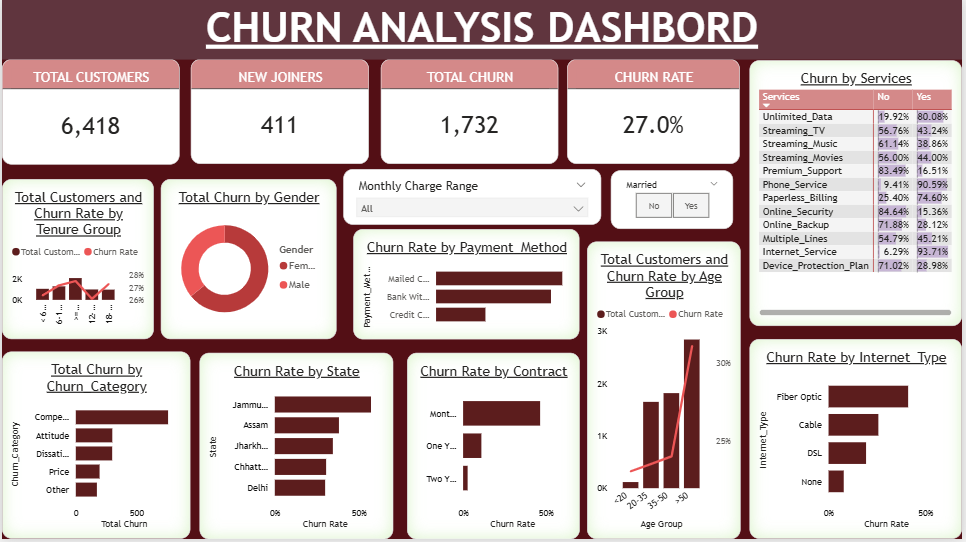

The dashboard page shown, as its layout file describes it:
{"tool":"powerbi","page":{"name":"Churn Analysis Dashboard","canvas":[1280,720],"ordinal":0},"visuals":[{"type":"card","title":"TOTAL CUSTOMERS","fields":{"Values":["Tbl_Measure.Total Customers"]},"box":[0,79.6,236.5,141.2],"z":0},{"type":"card","title":"TOTAL CHURN","fields":{"Values":["Tbl_Measure.Total Churn"]},"box":[504.3,80.8,236.5,139.9],"z":1000},{"type":"card","title":"NEW JOINERS","fields":{"Values":["Tbl_Measure.New Joiners"]},"box":[250.9,80.8,237.7,139.9],"z":2000},{"type":"card","title":"CHURN RATE","fields":{"Values":["Tbl_Measure.Churn Rate"]},"box":[754,79.6,230.4,139.9],"z":3000},{"type":"donutChart","fields":{"Category":["prod_Churn.Gender"],"Y":["Tbl_Measure.Total Churn"]},"box":[212.3,240.1,234,213.5],"z":4000},{"type":"lineStackedColumnComboChart","fields":{"Category":["Mapping_AgeGrp.Age Group"],"Y":["Tbl_Measure.Total Customers"],"Y2":["Tbl_Measure.Churn Rate"]},"box":[779.4,323.3,205.1,396.9],"z":5000},{"type":"clusteredBarChart","fields":{"Category":["prod_Churn.Payment_Method"],"Y":["Tbl_Measure.Churn Rate"]},"box":[468.1,306.4,301.6,147.2],"z":6000},{"type":"clusteredBarChart","fields":{"Category":["prod_Churn.Contract"],"Y":["Tbl_Measure.Churn Rate"]},"box":[539.3,471.7,230.4,248.5],"z":7000},{"type":"lineStackedColumnComboChart","fields":{"Category":["Mapping_TenureGrp.Tenure Group"],"Y":["Tbl_Measure.Total Customers"],"Y2":["Tbl_Measure.Churn Rate"]},"box":[0,240,203.3,213.3],"z":8000},{"type":"clusteredBarChart","fields":{"Category":["prod_Churn.State"],"Y":["Tbl_Measure.Churn Rate"]},"box":[263,471.7,258.2,248.5],"z":9000},{"type":"clusteredBarChart","fields":{"Category":["prod_Churn.Churn_Category"],"Y":["Tbl_Measure.Total Churn"]},"box":[0,470,251.7,250],"z":10000},{"type":"clusteredBarChart","fields":{"Category":["prod_Churn.Internet_Type"],"Y":["Tbl_Measure.Churn Rate"]},"box":[996.5,453.6,283.5,266.6],"z":11000},{"type":"pivotTable","title":"Churn  by Services","fields":{"Rows":["prod_services.Services"],"Columns":["prod_services.Status"],"Values":["Sum(prod_services.Churn Status)"]},"box":[997.1,81.4,282.9,354.3],"z":12000},{"type":"slicer","fields":{"Values":["prod_Churn.Monthly Charge Range"]},"box":[454.8,226.8,343.8,74.8],"z":13000},{"type":"slicer","fields":{"Values":["prod_Churn.Married"]},"box":[811.9,228,162.9,78.4],"z":14000},{"type":"textbox","box":[0,0,1280,80.8],"z":15000}]}

Visuals, with their boxes in screenshot pixels (x1, y1, x2, y2), scaled from the page's 1280x720 canvas onto the 966x542 screenshot:
"TOTAL CUSTOMERS" card: {"left": 0, "top": 60, "right": 178, "bottom": 166}
"TOTAL CHURN" card: {"left": 381, "top": 61, "right": 559, "bottom": 166}
"NEW JOINERS" card: {"left": 189, "top": 61, "right": 369, "bottom": 166}
"CHURN RATE" card: {"left": 569, "top": 60, "right": 743, "bottom": 165}
donutChart - prod_Churn.Gender x Tbl_Measure.Total Churn: {"left": 160, "top": 181, "right": 337, "bottom": 341}
lineStackedColumnComboChart - Mapping_AgeGrp.Age Group x Tbl_Measure.Total Customers: {"left": 588, "top": 243, "right": 743, "bottom": 541}
clusteredBarChart - prod_Churn.Payment_Method x Tbl_Measure.Churn Rate: {"left": 353, "top": 231, "right": 581, "bottom": 341}
clusteredBarChart - prod_Churn.Contract x Tbl_Measure.Churn Rate: {"left": 407, "top": 355, "right": 581, "bottom": 541}
lineStackedColumnComboChart - Mapping_TenureGrp.Tenure Group x Tbl_Measure.Total Customers: {"left": 0, "top": 181, "right": 153, "bottom": 341}
clusteredBarChart - prod_Churn.State x Tbl_Measure.Churn Rate: {"left": 198, "top": 355, "right": 393, "bottom": 541}
clusteredBarChart - prod_Churn.Churn_Category x Tbl_Measure.Total Churn: {"left": 0, "top": 354, "right": 190, "bottom": 541}
clusteredBarChart - prod_Churn.Internet_Type x Tbl_Measure.Churn Rate: {"left": 752, "top": 341, "right": 965, "bottom": 541}
"Churn  by Services" pivotTable: {"left": 752, "top": 61, "right": 965, "bottom": 328}
slicer - prod_Churn.Monthly Charge Range: {"left": 343, "top": 171, "right": 603, "bottom": 227}
slicer - prod_Churn.Married: {"left": 613, "top": 172, "right": 736, "bottom": 231}
textbox: {"left": 0, "top": 0, "right": 965, "bottom": 61}
